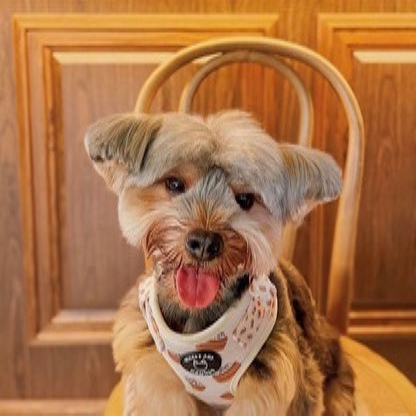yorkshire: (80, 108, 361, 416)
